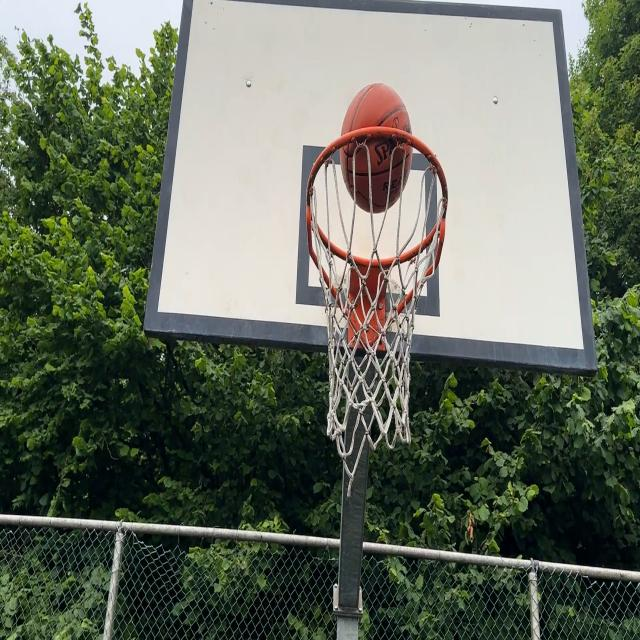rebound_hit: (341, 83, 411, 211)
